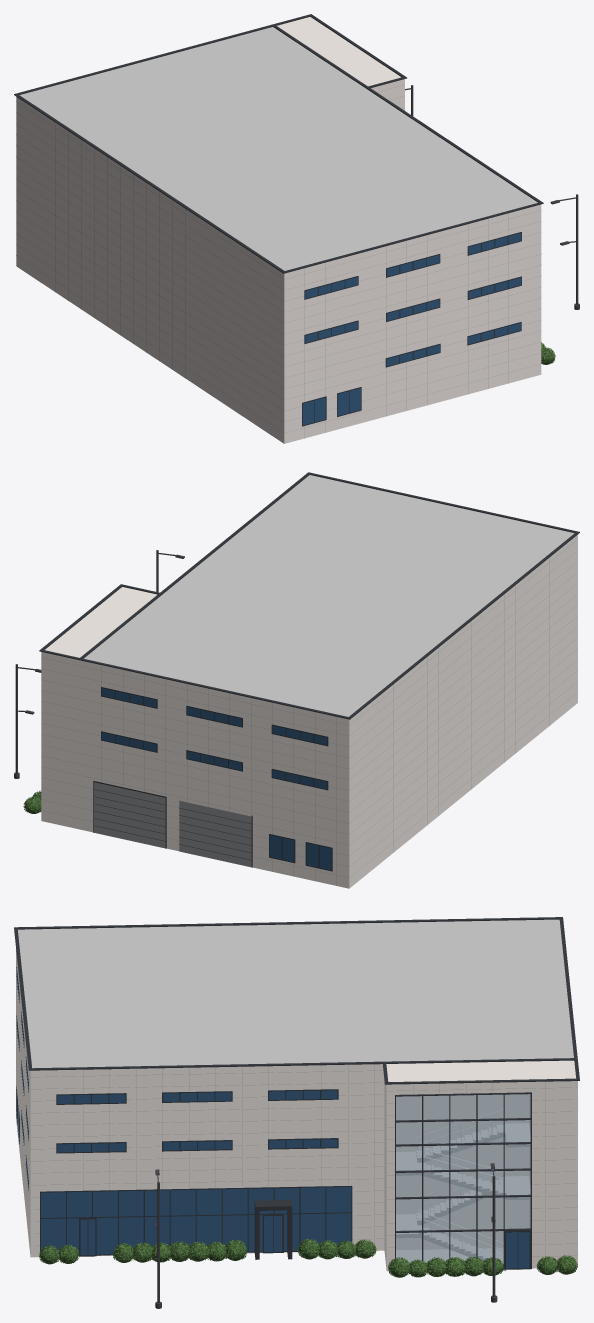
The picture shows the model from 3 angles, top to bottom: view 1: azimuth 30°, elevation 25°; view 2: azimuth 150°, elevation 25°; view 3: azimuth 270°, elevation 25°; orthographic projection. The views are drawn at different scales.
Visible parts, largest first — view 1: Annex, D Landscape; view 2: Annex, D Landscape; view 3: Annex, D Landscape.
Boxes of the visible parts, <box> form: Annex: <box>14,14,543,443</box>; D Landscape: <box>405,85,579,309</box>; Annex: <box>39,472,579,888</box>; D Landscape: <box>14,550,184,778</box>; Annex: <box>14,917,579,1271</box>; D Landscape: <box>155,1163,497,1308</box>.
Size of the model in its own units: 27.26 by 12 by 32.03.
